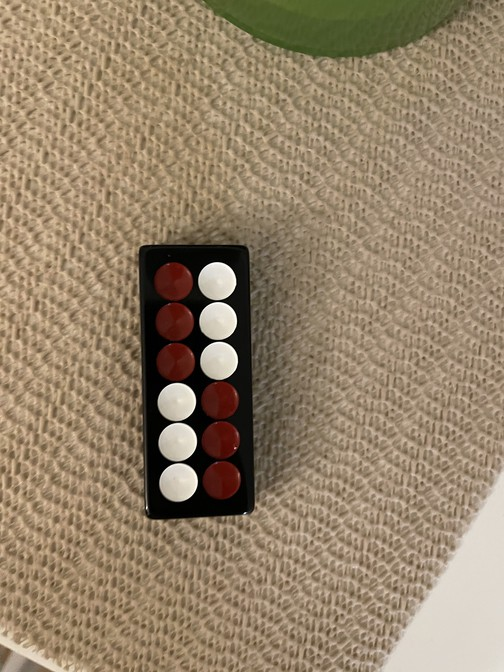heaven: (137, 246, 257, 522)
